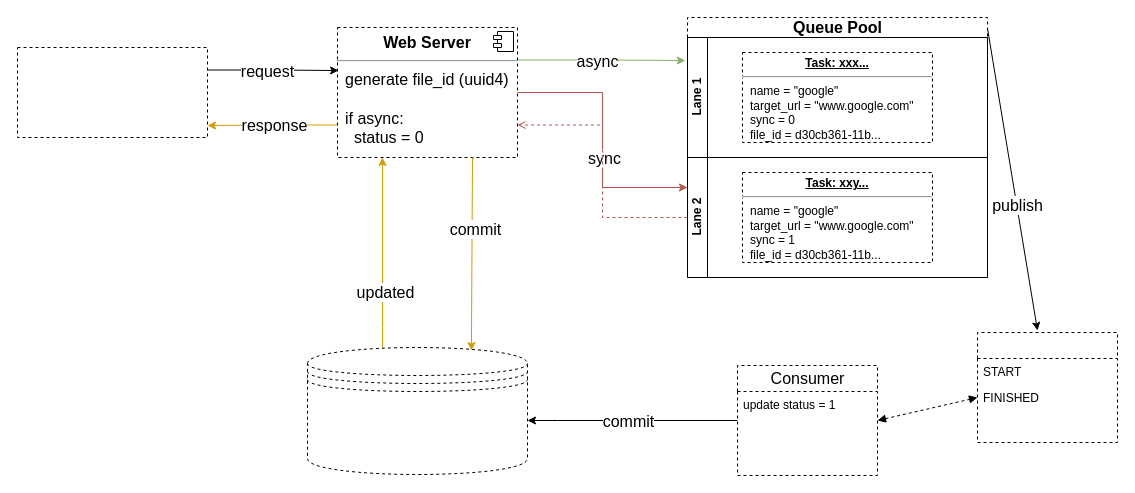
The diagram is 1135 pixels wide and 493 high, and some of its shapes have lost their labels. The shapes that lost their labels are listed below. From the top down, each one's box as (x1, y1, x2, y2) in pixels, then its label:
(16, 46, 208, 138): Task name = "google" target_url = "www.google.com" sync = 1 or 0 (true or false)
(976, 332, 1118, 442): Events
(306, 346, 528, 474): DB
